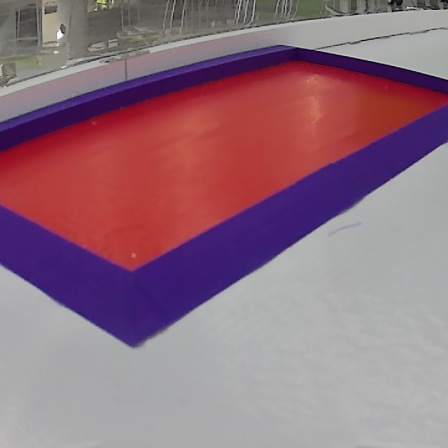red_aim: (0, 44, 447, 348)
